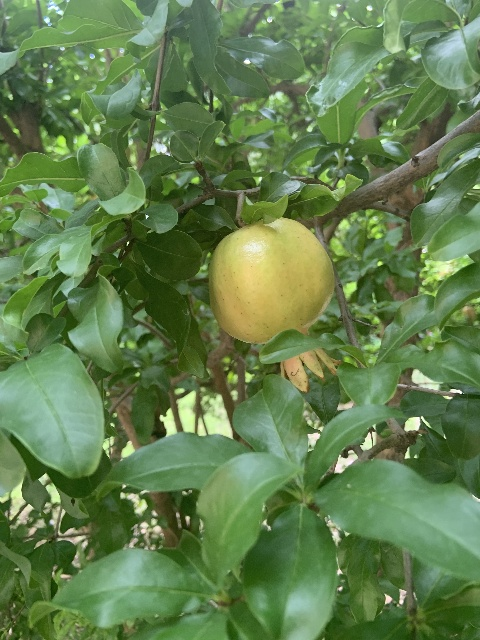mid-growth: (208, 217, 341, 392)
